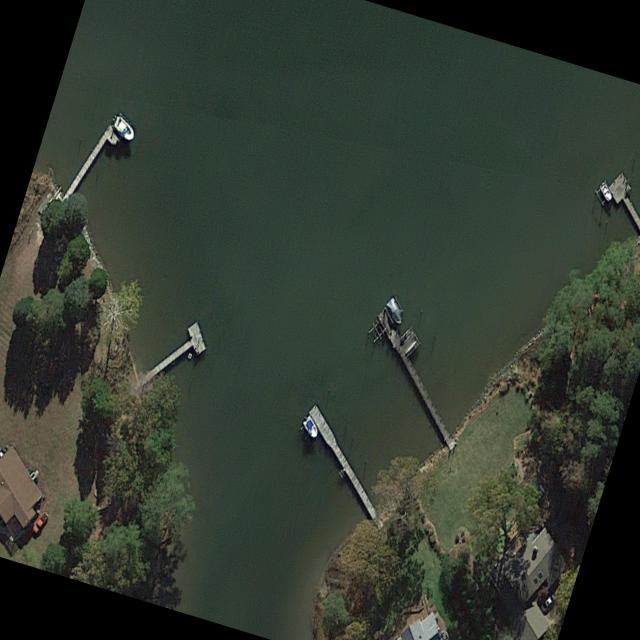ship: (111, 111, 136, 143), (384, 296, 403, 325), (301, 413, 318, 439), (597, 177, 613, 203)
small-vehicle: (31, 509, 48, 533), (539, 589, 556, 611)
